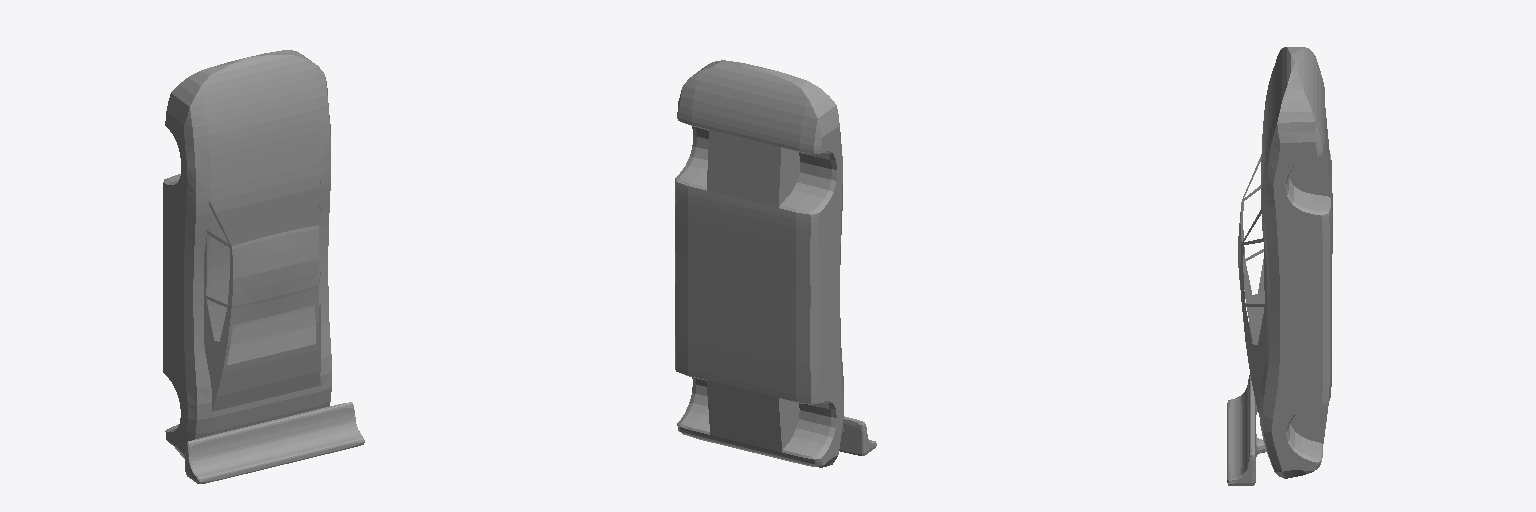
The model's file is karosserie.obj.
3 views of the same model, side by side, from view 1: azimuth 30°, elevation 25°; view 2: azimuth 150°, elevation 25°; view 3: azimuth 270°, elevation 25° (orthographic).
Parts seen in each view (by area): view 1: car_Cube, carTop_Cube.001, car.001_Cube.002; view 2: car_Cube, car.001_Cube.002; view 3: car_Cube, carTop_Cube.001, car.001_Cube.002.
Boxes of the visible parts, x1,y1,x2,y2 form: car_Cube: [163, 50, 331, 458]; carTop_Cube.001: [204, 180, 320, 411]; car.001_Cube.002: [185, 402, 364, 483]; car_Cube: [675, 60, 843, 467]; car.001_Cube.002: [839, 416, 876, 455]; car_Cube: [1259, 47, 1332, 478]; carTop_Cube.001: [1238, 157, 1266, 416]; car.001_Cube.002: [1227, 375, 1266, 485].
Bounding box in the file's own units: 4.16 × 9.2 × 2.26.